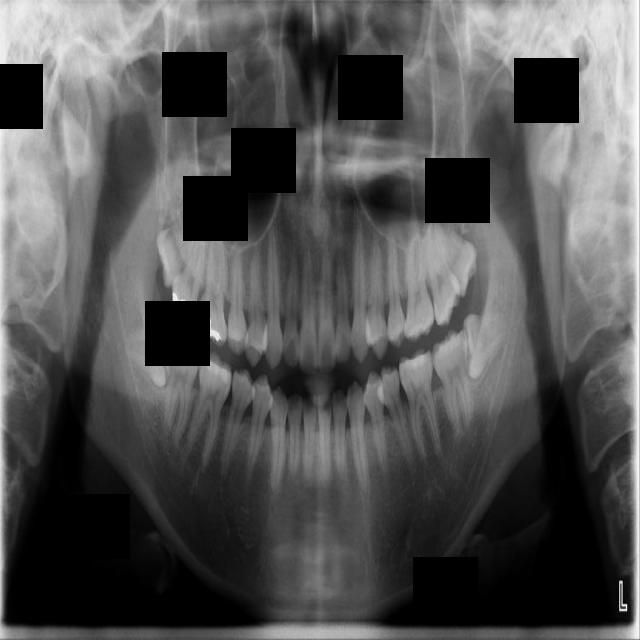3M ESPE Implant: (139, 192, 211, 291)
52: (186, 294, 239, 349), (155, 331, 207, 386), (168, 269, 201, 331), (198, 349, 233, 406)
73: (590, 586, 598, 594)
BioHorizons Implant: (422, 217, 464, 328)
BioLife Implant: (422, 203, 492, 300)
Biomet 3i Implant: (461, 309, 511, 379)
Blue Sky Bio Implant: (429, 326, 475, 439)
Caries: (166, 213, 211, 329)
Implant: (162, 332, 202, 443)
Keystone Dental Implant: (118, 319, 182, 395)
